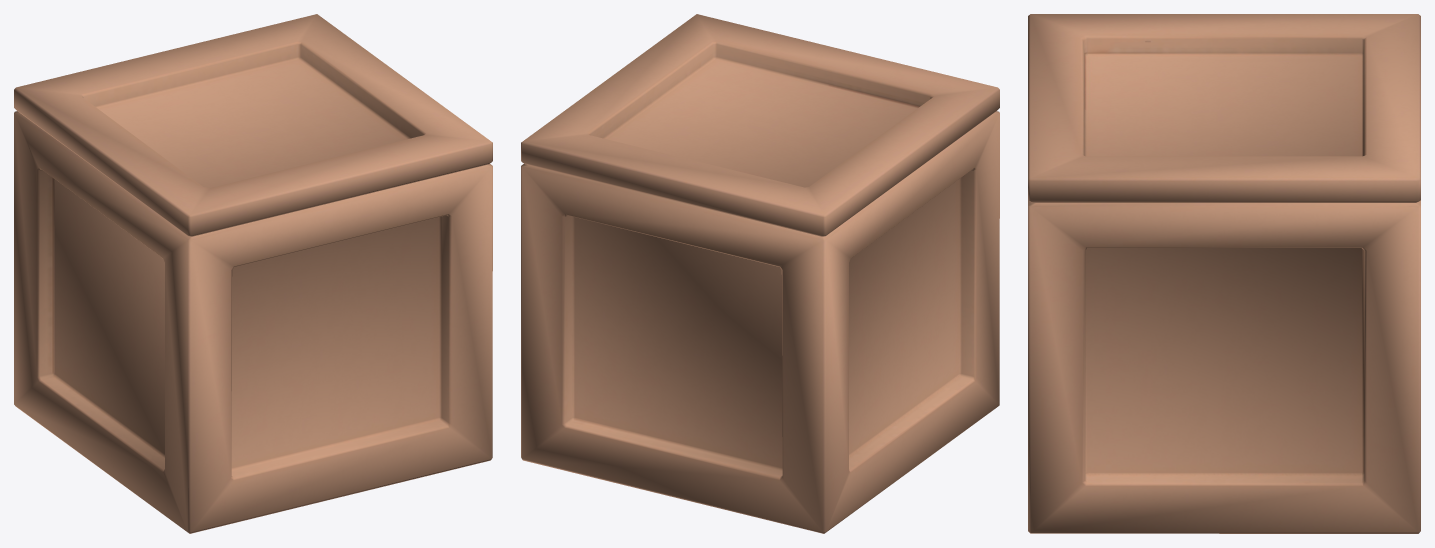
Rendered from wood_crate.glb.
3 views of the same model, side by side, from view 1: azimuth 30°, elevation 25°; view 2: azimuth 150°, elevation 25°; view 3: azimuth 270°, elevation 25° (orthographic). The views are drawn at different scales.
Parts seen in each view (by area): view 1: tripo_node_f6c4c749-1266-4ef1-8297-4207160bac8f; view 2: tripo_node_f6c4c749-1266-4ef1-8297-4207160bac8f; view 3: tripo_node_f6c4c749-1266-4ef1-8297-4207160bac8f.
Boxes of the visible parts, x1=… form: tripo_node_f6c4c749-1266-4ef1-8297-4207160bac8f: x1=14, y1=14, x2=492, y2=533; tripo_node_f6c4c749-1266-4ef1-8297-4207160bac8f: x1=521, y1=14, x2=999, y2=533; tripo_node_f6c4c749-1266-4ef1-8297-4207160bac8f: x1=1028, y1=14, x2=1420, y2=533.
Bounding box in the file's own units: 0.998 × 0.998 × 0.998.
1 material, 1 textured.
